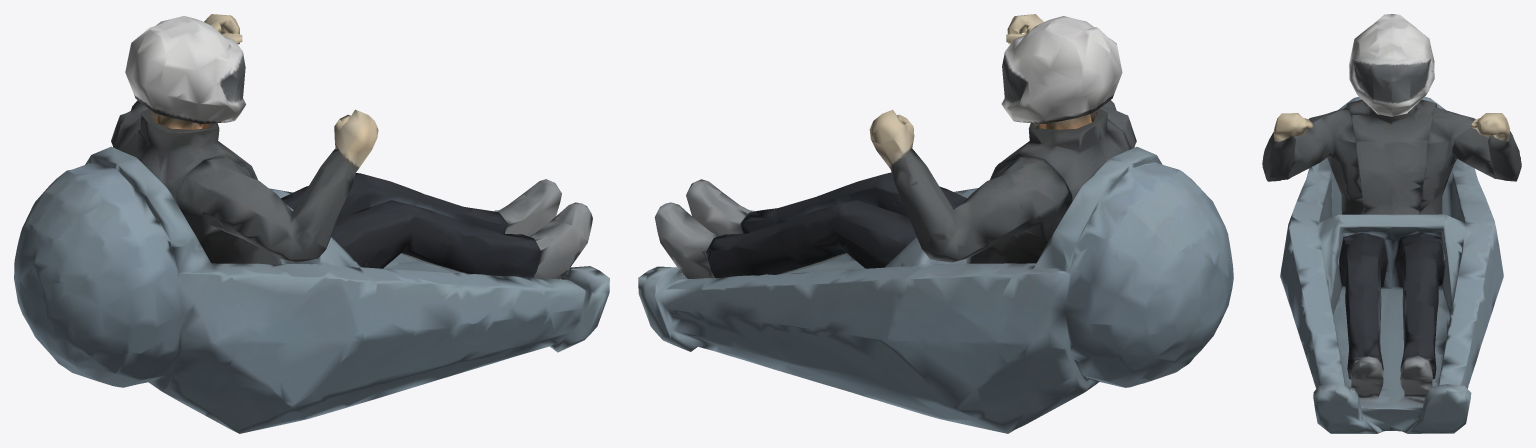
File: pilot.glb
3 renders of one model, left to right at view 1: azimuth 30°, elevation 25°; view 2: azimuth 150°, elevation 25°; view 3: azimuth 270°, elevation 25°, orthographic. The views are drawn at different scales.
Visible parts, largest first — view 1: tripo_node_9cb75640-8528-4ba4-81e9-67f4a078d3df; view 2: tripo_node_9cb75640-8528-4ba4-81e9-67f4a078d3df; view 3: tripo_node_9cb75640-8528-4ba4-81e9-67f4a078d3df.
Boxes of the visible parts, bbox=[...] form: tripo_node_9cb75640-8528-4ba4-81e9-67f4a078d3df: bbox=[14, 14, 609, 433]; tripo_node_9cb75640-8528-4ba4-81e9-67f4a078d3df: bbox=[638, 14, 1233, 433]; tripo_node_9cb75640-8528-4ba4-81e9-67f4a078d3df: bbox=[1262, 14, 1521, 433].
Bounding box in the file's own units: 0.9999 × 0.6742 × 0.5596.
Materials: 1 (1 with a texture image).
